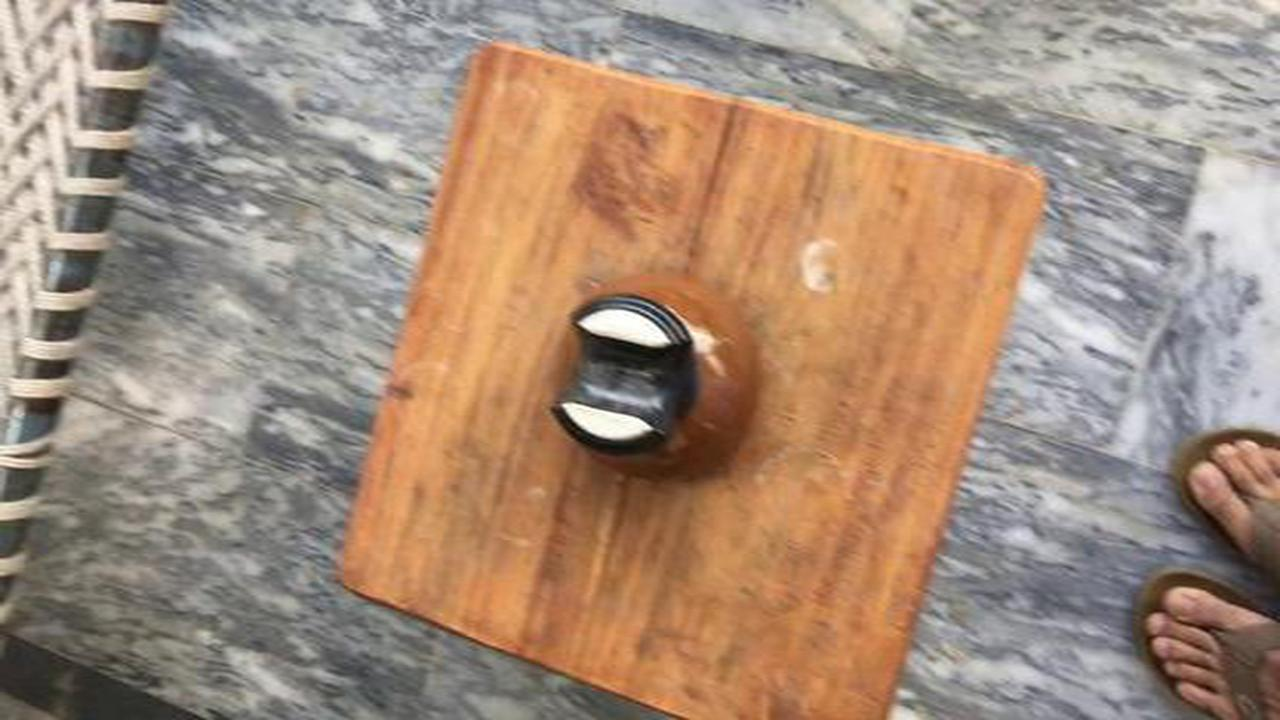insulator_pin: (530, 258, 788, 494)
